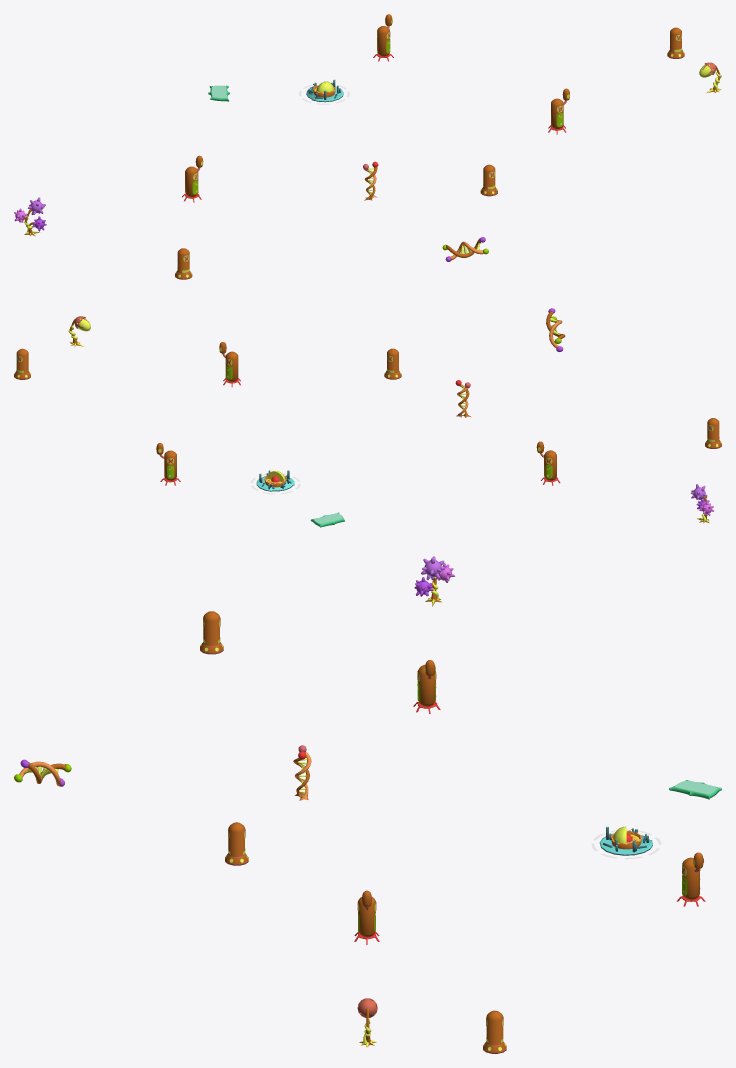
Rendered from Contruct.fbx.
3 renders of one model, top to bottom at view 1: azimuth 30°, elevation 25°; view 2: azimuth 150°, elevation 25°; view 3: azimuth 270°, elevation 25°, orthographic. The views are drawn at different scales.
Parts seen in each view (by area): view 1: home_base.001, farm_opt1.001, main_quest.003, main_quest, main_quest.002, market2.001; view 2: home_base.001, main_quest.002, main_quest, main_quest.003, farm_opt1.001, market2.001, yellowquest.002, yellowquest.003, yellowquest.001; view 3: home_base.001, farm_opt1.001, main_quest, main_quest.003, main_quest.002, yellowquest.002, yellowquest.003, market2.001, yellowquest.001.
Part boxes in pixels (left/top/right/bottom): home_base.001: left=299, top=79, right=349, bottom=104; farm_opt1.001: left=14, top=197, right=46, bottom=236; main_quest.003: left=182, top=155, right=203, bottom=202; main_quest: left=373, top=14, right=393, bottom=61; main_quest.002: left=548, top=88, right=569, bottom=134; market2.001: left=442, top=237, right=488, bottom=261; home_base.001: left=250, top=470, right=300, bottom=494; main_quest.002: left=219, top=342, right=240, bottom=387; main_quest: left=156, top=443, right=180, bottom=485; main_quest.003: left=536, top=441, right=560, bottom=485; farm_opt1.001: left=690, top=484, right=714, bottom=523; market2.001: left=546, top=308, right=565, bottom=351; yellowquest.002: left=14, top=348, right=30, bottom=379; yellowquest.003: left=705, top=418, right=721, bottom=448; yellowquest.001: left=384, top=348, right=401, bottom=379; home_base.001: left=591, top=826, right=661, bottom=859; farm_opt1.001: left=414, top=556, right=454, bottom=606; main_quest: left=676, top=852, right=705, bottom=906; main_quest.003: left=413, top=660, right=440, bottom=713; main_quest.002: left=354, top=890, right=379, bottom=944; yellowquest.002: left=483, top=1010, right=506, bottom=1053; yellowquest.003: left=200, top=611, right=223, bottom=654; market2.001: left=14, top=759, right=71, bottom=786; yellowquest.001: left=225, top=822, right=248, bottom=865.
Bounding box in the file's own units: 30577 × 1667 × 19847.
